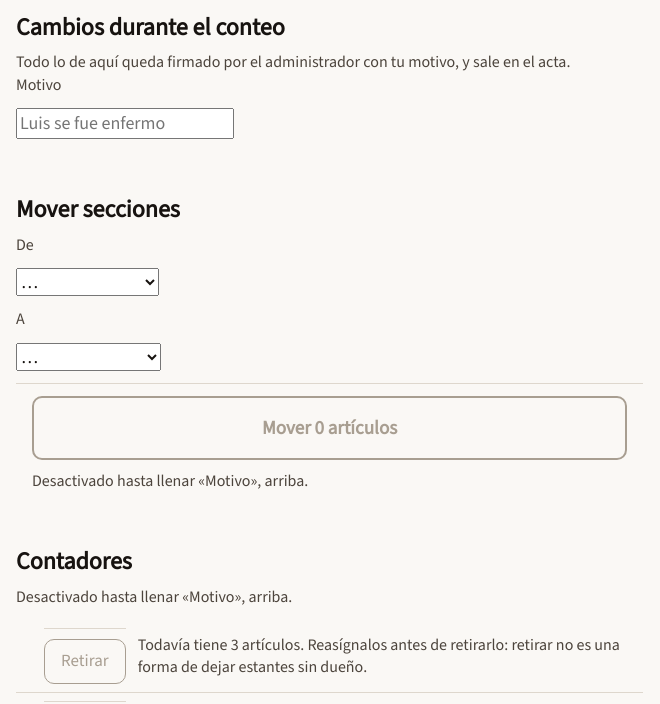
Test: the mid-count reassignment warning (§4b) › treats a counter who has never synced the same way
The width and height of the screenshot is (660, 704).
Select "Luis · 3 artículos" in the dropdown labelled "De": [88, 282] box [16,268,159,296]
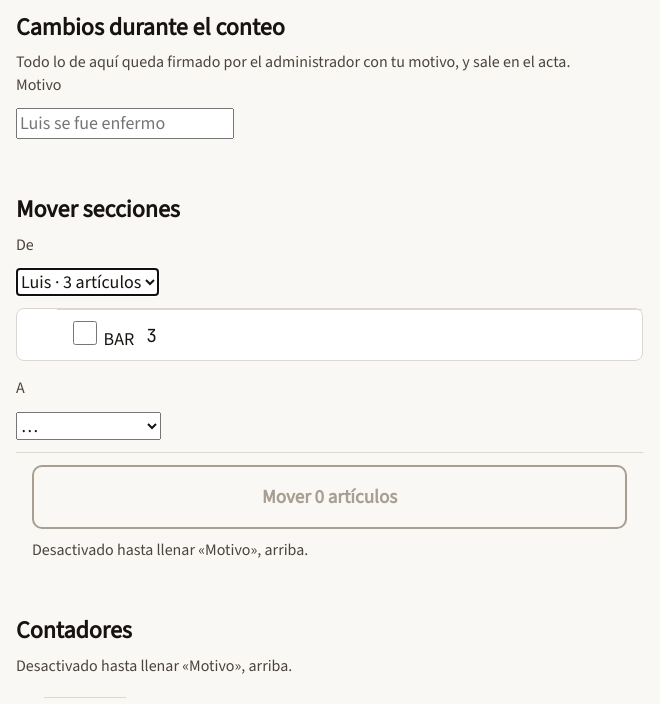
Click the checkbox: [85, 333] box [73,321,97,345]
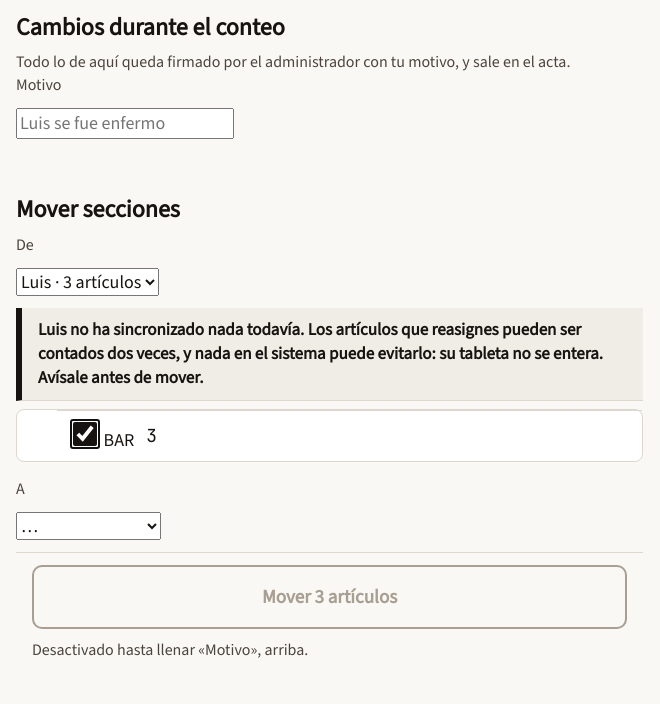
Check: the text "Luis no ha sincronizado nada todavía" is shown, box [38,318,603,389]
